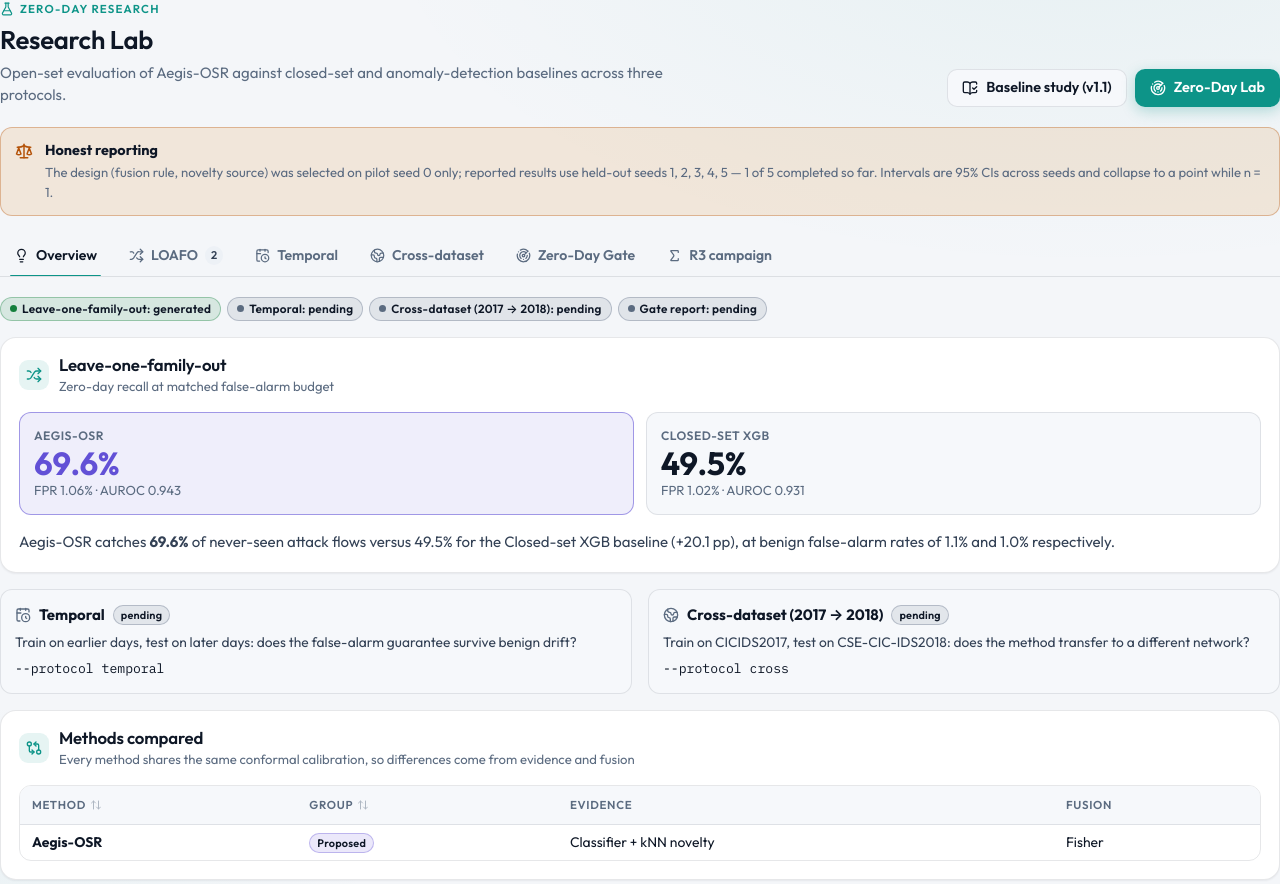
Test case: ResearchLabPage › shows headline results, the honesty note and protocol tabs
Expected: the text "catches" is shown, [92,532,149,551]
Expected: the text "selected on pilot seed 0" is shown, [45,164,667,180]
Click the tab "LOAFO 2".
click(176, 256)  # box [115,236,237,276]
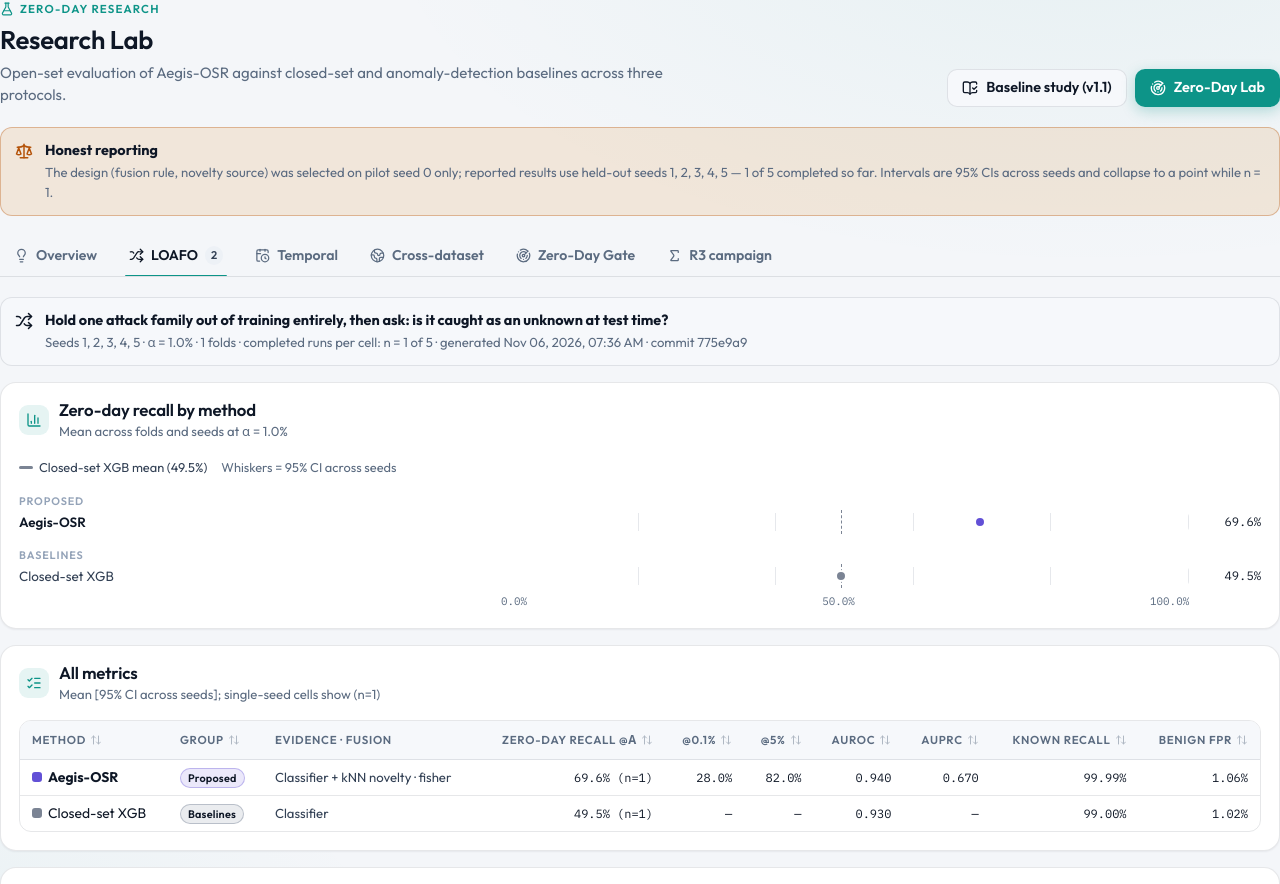
Now the heading "Zero-day recall by method" is shown, box [59,399,288,420]
Now the text "69.6% (n=1)" is shown, box [574,770,653,785]
Click the tab "Temporal".
click(297, 256)  # box [241,236,352,276]
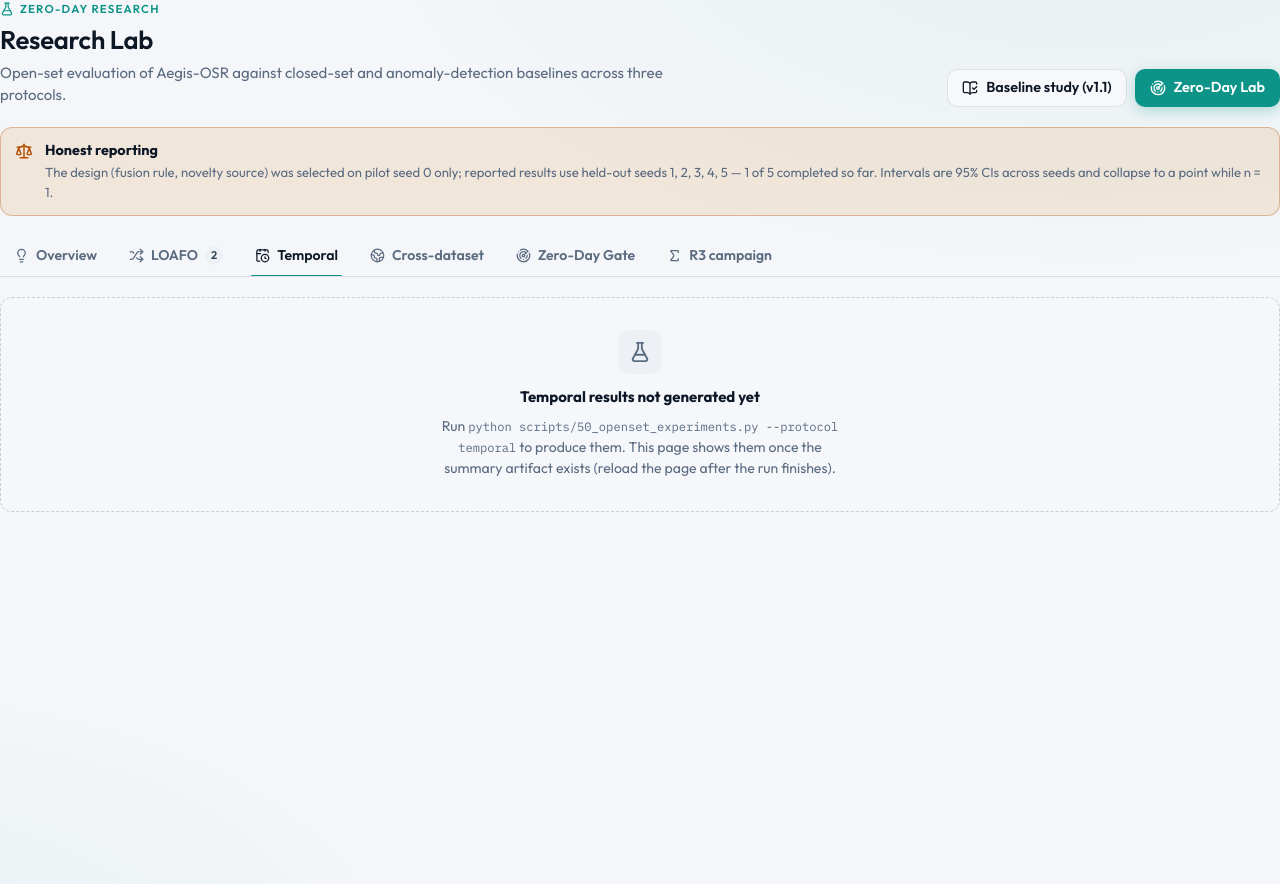
Now the text "Temporal results not generated yet" is shown, box [520,386,760,408]
Now the text "python scripts/50_openset_experiments.py --protocol temporal" is shown, box [458,419,838,455]
